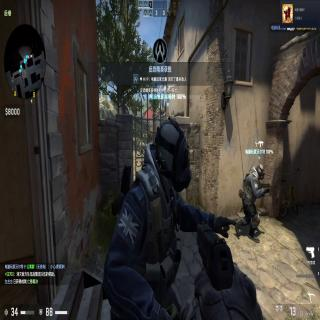CT-Body: (236, 162, 270, 242)
CT-Head: (152, 116, 192, 189), (256, 162, 265, 180)
